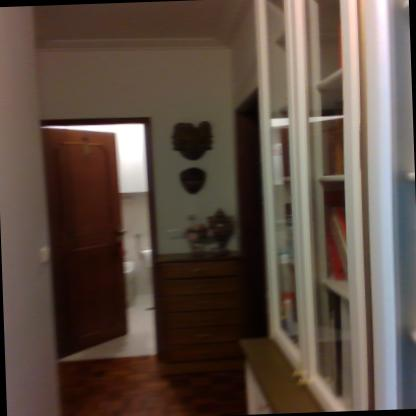semi: (32, 112, 168, 370)
